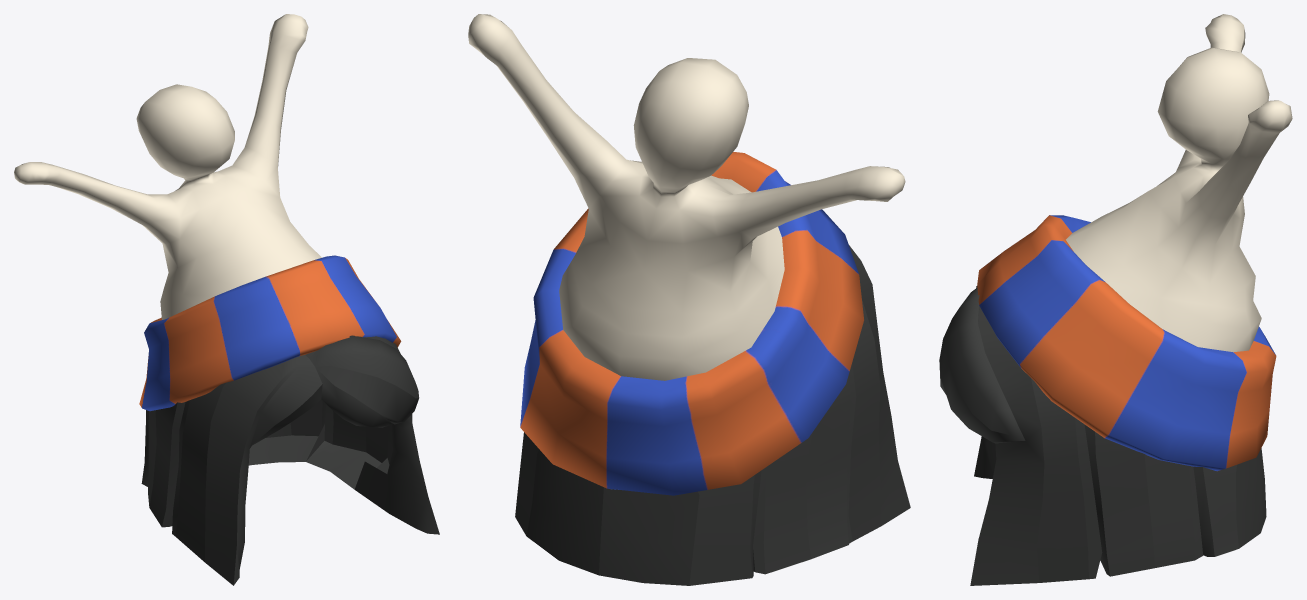
Rendered from 48登山帽.fbx.
3 views of the same model, side by side, from view 1: azimuth 30°, elevation 25°; view 2: azimuth 150°, elevation 25°; view 3: azimuth 270°, elevation 25° (orthographic). The views are drawn at different scales.
Visible parts, largest first — view 1: 48登山帽; view 2: 48登山帽; view 3: 48登山帽.
Part boxes in pixels (x1,y1,x2,y2): 48登山帽: (14,14,439,585); 48登山帽: (468,14,910,585); 48登山帽: (939,14,1292,585).
Bounding box in the file's own units: 0.6326 × 0.7951 × 0.5296.
